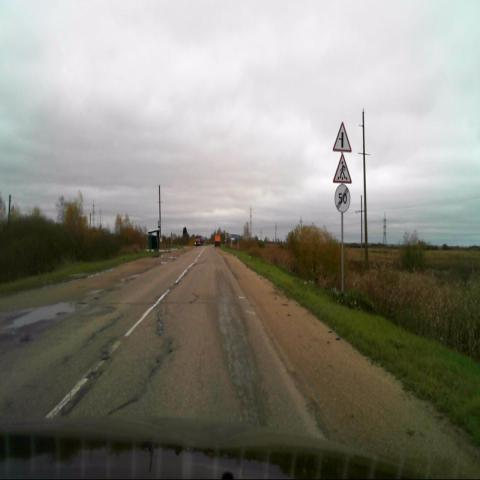1_22: (333, 153, 351, 183)
3_25: (334, 183, 350, 212)
